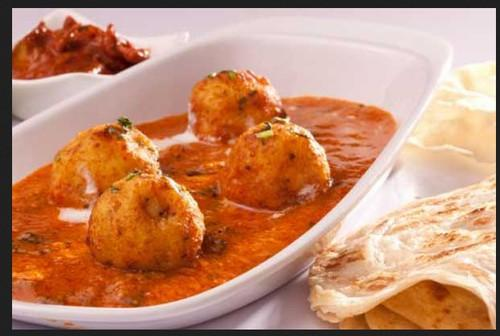DumAloo: (9, 62, 397, 307)
